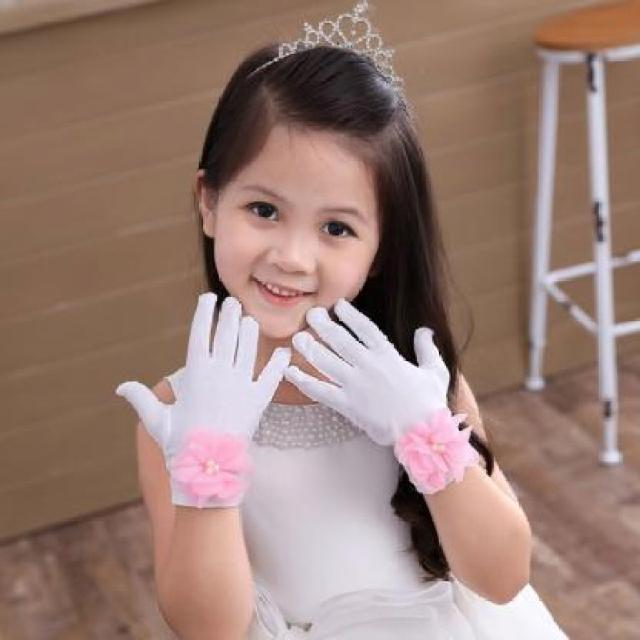face_nomask: (209, 160, 380, 326)
hand_glove: (115, 291, 300, 458), (286, 298, 454, 432)
head_nohelmet: (191, 43, 443, 159)
person: (99, 27, 531, 640)
